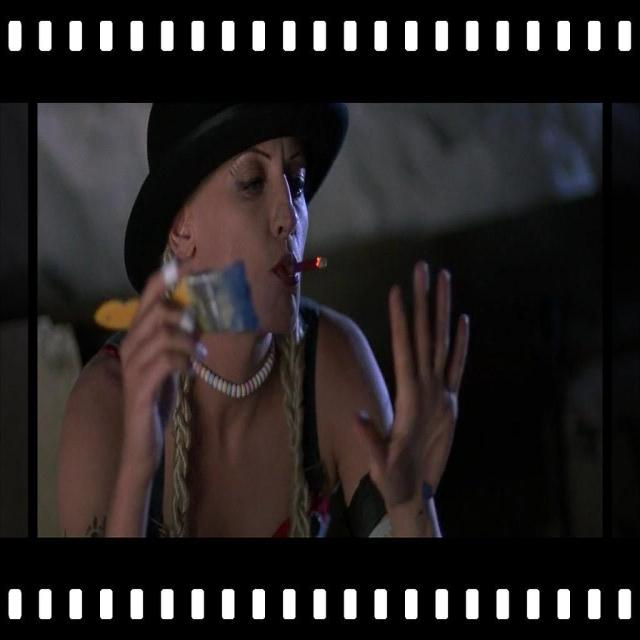smoking: (164, 114, 346, 344)
